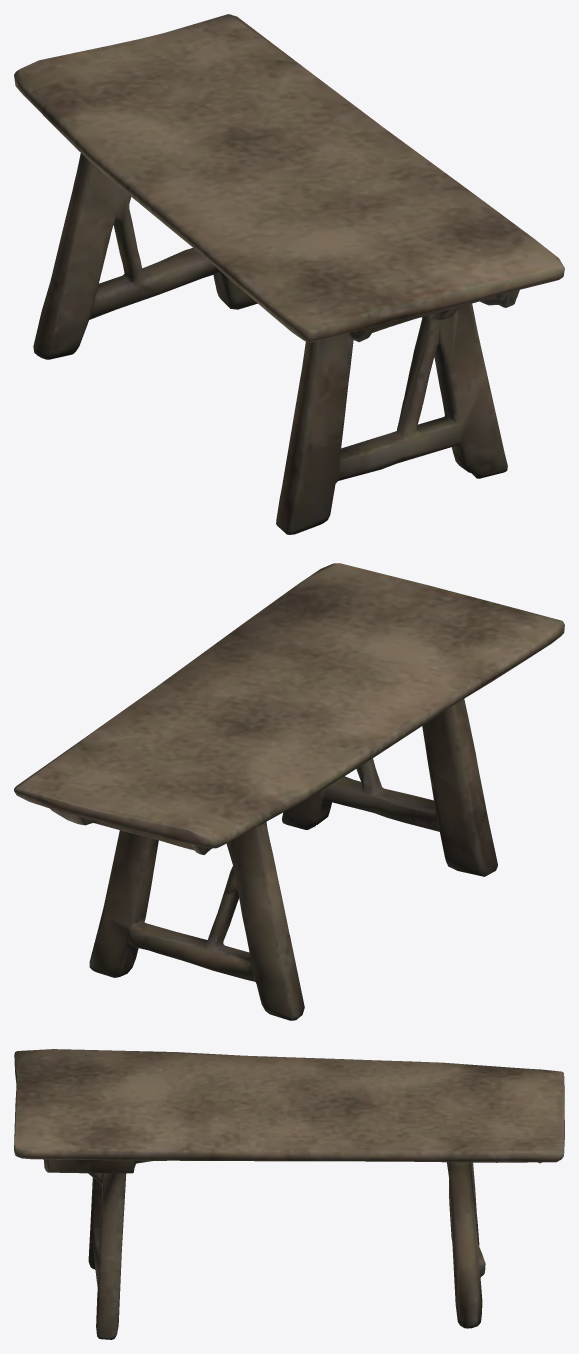
The model's file is simple-wood-banquet-table-v002.glb.
3 renders of one model, top to bottom at view 1: azimuth 30°, elevation 25°; view 2: azimuth 150°, elevation 25°; view 3: azimuth 270°, elevation 25°, orthographic. The views are drawn at different scales.
Parts seen in each view (by area): view 1: simple-wood-banquet-table; view 2: simple-wood-banquet-table; view 3: simple-wood-banquet-table.
Boxes of the visible parts, x1=… form: simple-wood-banquet-table: x1=14, y1=14, x2=564, y2=534; simple-wood-banquet-table: x1=14, y1=563, x2=564, y2=1020; simple-wood-banquet-table: x1=14, y1=1049, x2=564, y2=1339.
Size of the model in its own units: 0.9133 by 0.8087 by 2.01.
Materials: 1 (1 with a texture image).
